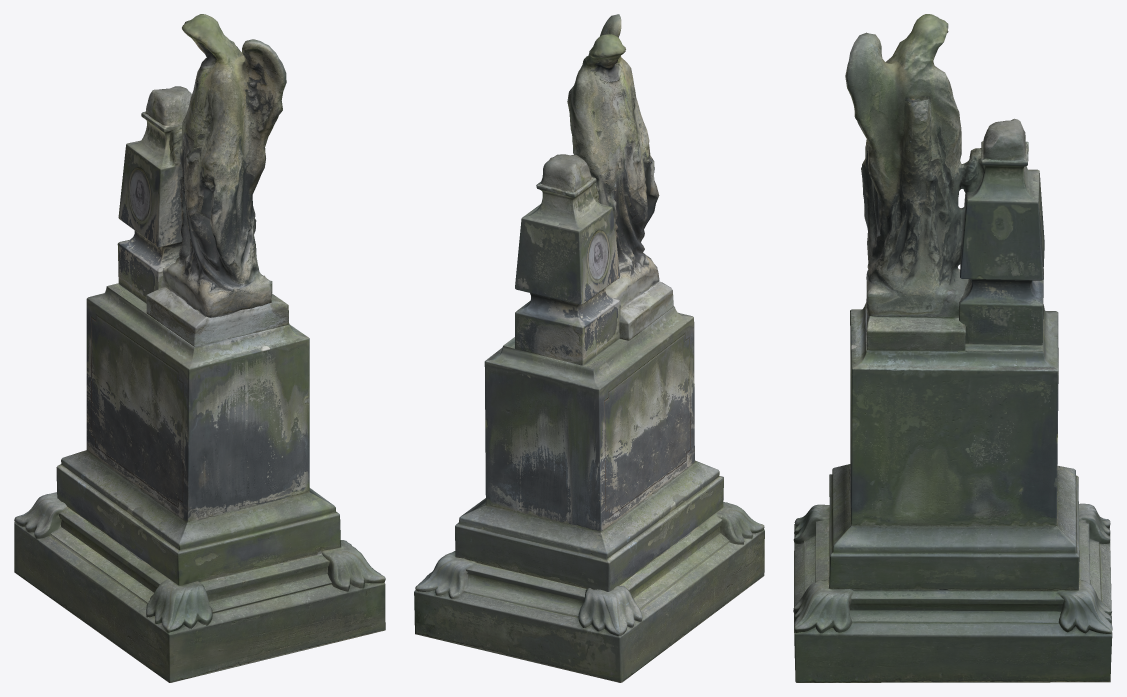
Rendered from sm_GraveSculpture_03_01.fbx.
The picture shows the model from 3 angles, left to right: view 1: azimuth 30°, elevation 25°; view 2: azimuth 150°, elevation 25°; view 3: azimuth 270°, elevation 25°; orthographic projection. The views are drawn at different scales.
Parts seen in each view (by area): view 1: sm_GraveSculpture_03_01_LOD0; view 2: sm_GraveSculpture_03_01_LOD0; view 3: sm_GraveSculpture_03_01_LOD0.
Part boxes in pixels (left/top/right/bottom): sm_GraveSculpture_03_01_LOD0: left=14, top=14, right=385, bottom=682; sm_GraveSculpture_03_01_LOD0: left=414, top=14, right=764, bottom=682; sm_GraveSculpture_03_01_LOD0: left=793, top=14, right=1112, bottom=682.
Size of the model in its own units: 133 by 165 by 346.
